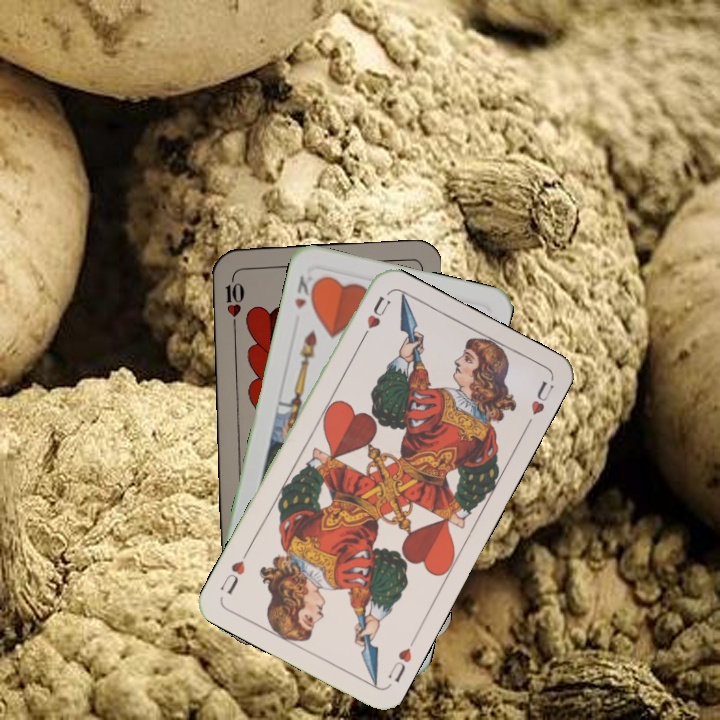H10: (222, 270, 247, 329)
HK: (290, 271, 320, 312)
HU: (356, 292, 393, 345), (383, 643, 415, 685)
